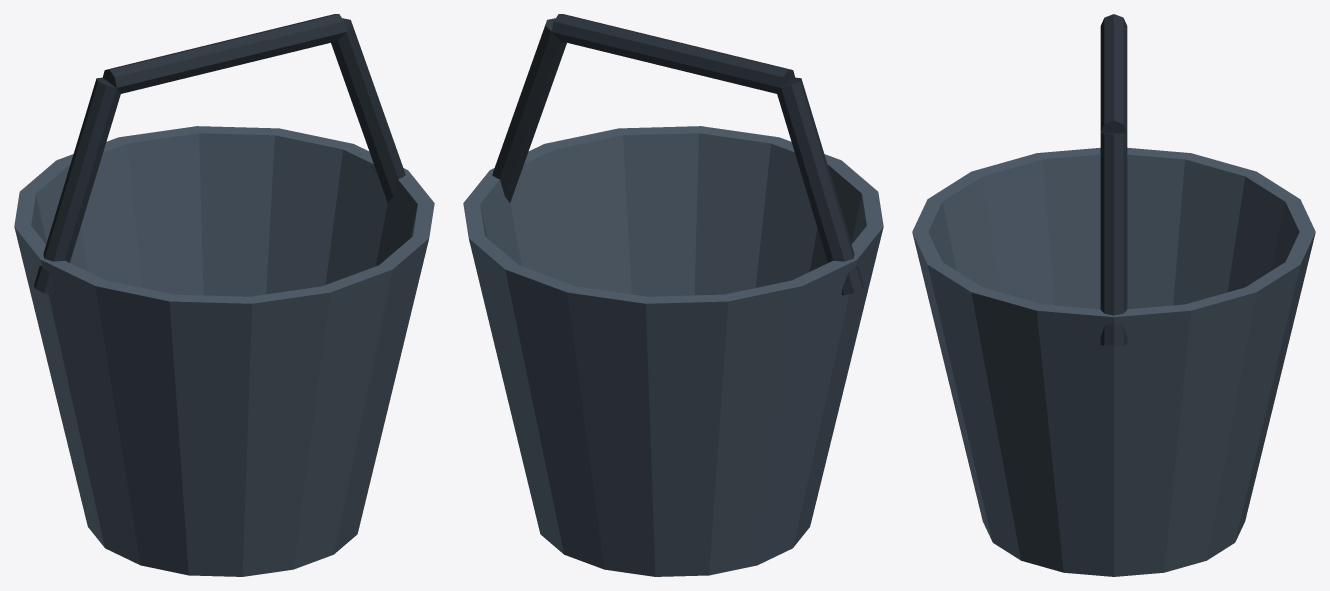
File: L-35_sample_pail.glb
The picture shows the model from 3 angles, left to right: view 1: azimuth 30°, elevation 25°; view 2: azimuth 150°, elevation 25°; view 3: azimuth 270°, elevation 25°; orthographic projection. The views are drawn at different scales.
Parts seen in each view (by area): view 1: L-35_sample_pail; view 2: L-35_sample_pail; view 3: L-35_sample_pail.
Boxes of the visible parts, bbox=[...] form: L-35_sample_pail: bbox=[14, 14, 434, 576]; L-35_sample_pail: bbox=[463, 14, 883, 576]; L-35_sample_pail: bbox=[912, 14, 1315, 576].
Size of the model in its own units: 0.2471 by 0.298 by 0.24.
